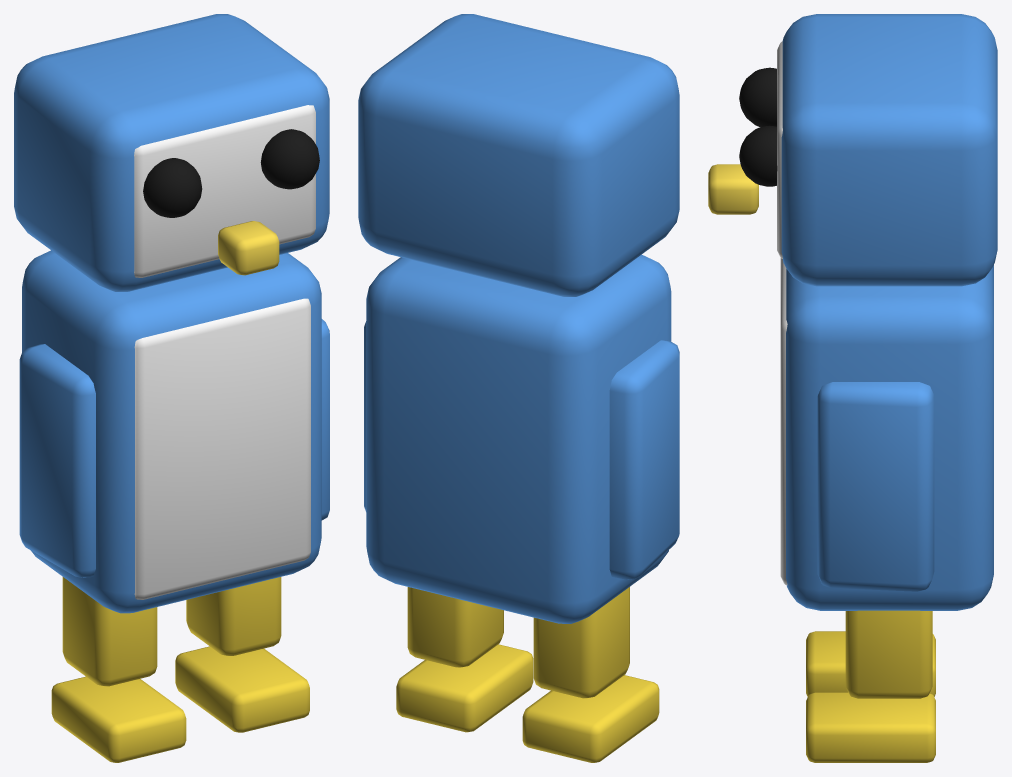
Rendered from Penguin_Blue.glb.
3 renders of one model, left to right at view 1: azimuth 30°, elevation 25°; view 2: azimuth 150°, elevation 25°; view 3: azimuth 270°, elevation 25°, orthographic.
Visible parts, largest first — view 1: Penguin_Blue; view 2: Penguin_Blue; view 3: Penguin_Blue.
Boxes of the visible parts, left/top/right/bottom form: Penguin_Blue: left=14, top=14, right=329, bottom=762; Penguin_Blue: left=358, top=14, right=679, bottom=762; Penguin_Blue: left=708, top=14, right=997, bottom=762.
Bounding box in the file's own units: 0.8797 × 2 × 0.8.
